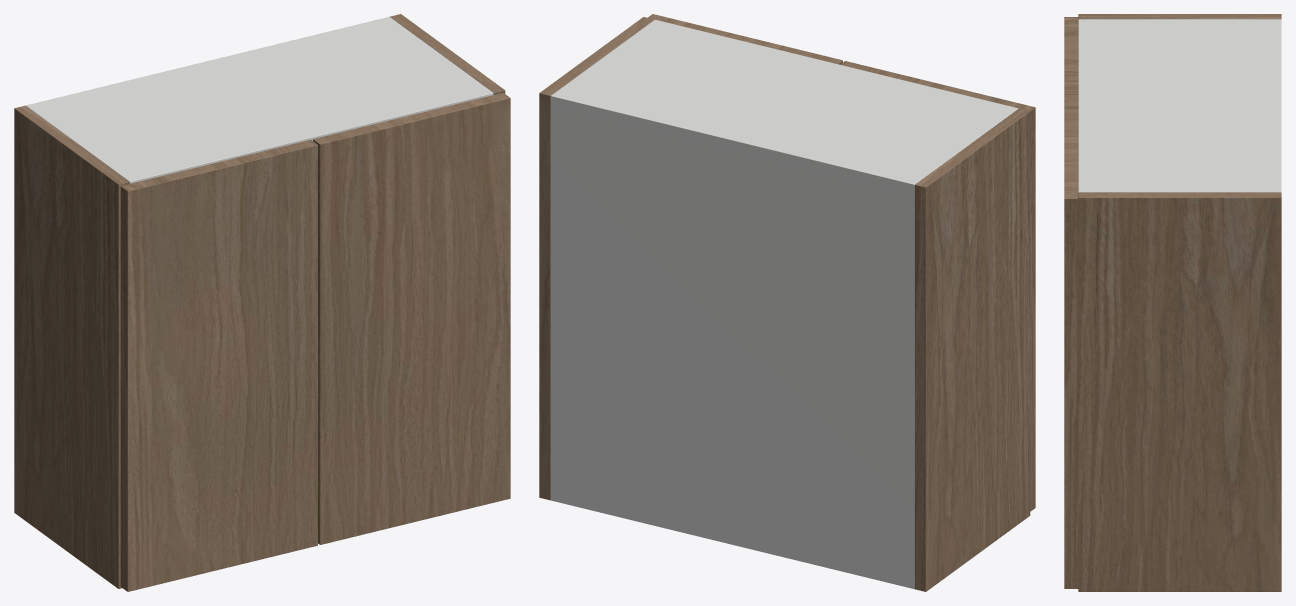
Rendered from oppein-pb-mnw-w2424.glb.
3 views of the same model, side by side, from view 1: azimuth 30°, elevation 25°; view 2: azimuth 150°, elevation 25°; view 3: azimuth 270°, elevation 25° (orthographic). The views are drawn at different scales.
Parts seen in each view (by area): view 1: Door, Door.001, Cabinet side, Cabinet top, Cabinet back, Cabinet side.001; view 2: Cabinet back, Cabinet side, Cabinet top, Cabinet side.001, Door, Cabinet bottom, Door.001; view 3: Cabinet side.001, Cabinet top, Door.001, Cabinet back, Door, Cabinet side.
Part boxes in pixels (left/top/right/bottom): Door: left=120, top=140, right=317, bottom=591; Door.001: left=313, top=93, right=510, bottom=544; Cabinet side: left=14, top=105, right=129, bottom=588; Cabinet top: left=30, top=17, right=493, bottom=183; Cabinet back: left=26, top=17, right=392, bottom=108; Cabinet side.001: left=390, top=14, right=505, bottom=94; Cabinet back: left=550, top=93, right=918, bottom=589; Cabinet side: left=914, top=108, right=1030, bottom=591; Cabinet top: left=550, top=19, right=1018, bottom=195; Cabinet side.001: left=539, top=17, right=654, bottom=500; Door: left=840, top=61, right=1035, bottom=511; Cabinet bottom: left=550, top=489, right=913, bottom=588; Door.001: left=648, top=14, right=842, bottom=64; Cabinet side.001: left=1078, top=192, right=1281, bottom=591; Cabinet top: left=1078, top=19, right=1281, bottom=192; Door.001: left=1064, top=108, right=1078, bottom=588; Cabinet back: left=1273, top=19, right=1281, bottom=192; Door: left=1064, top=17, right=1078, bottom=108; Cabinet side: left=1078, top=14, right=1281, bottom=19.
Bounding box in the file's own units: 0.6096 × 0.6096 × 0.3048.
2 materials, 1 textured.
